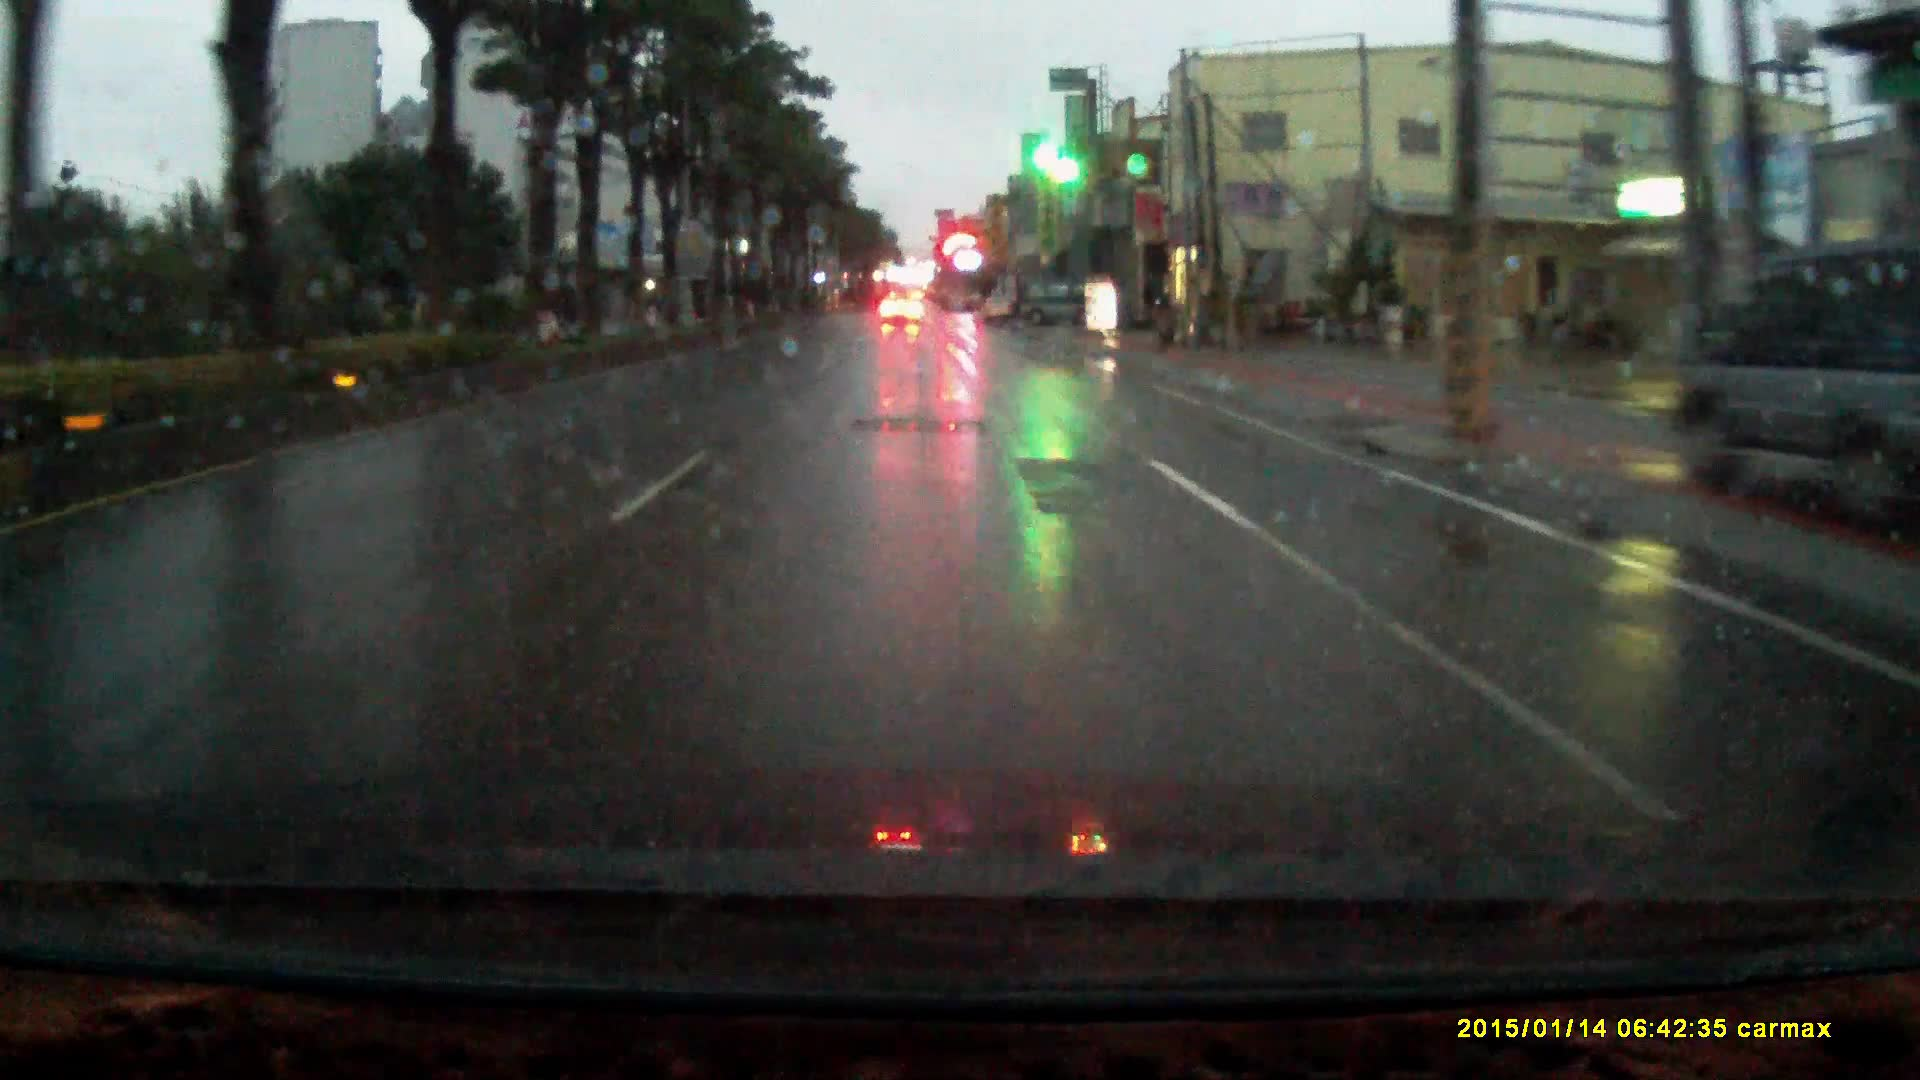vehicle: (1671, 235, 1920, 537), (1019, 280, 1091, 324), (880, 291, 926, 330)
